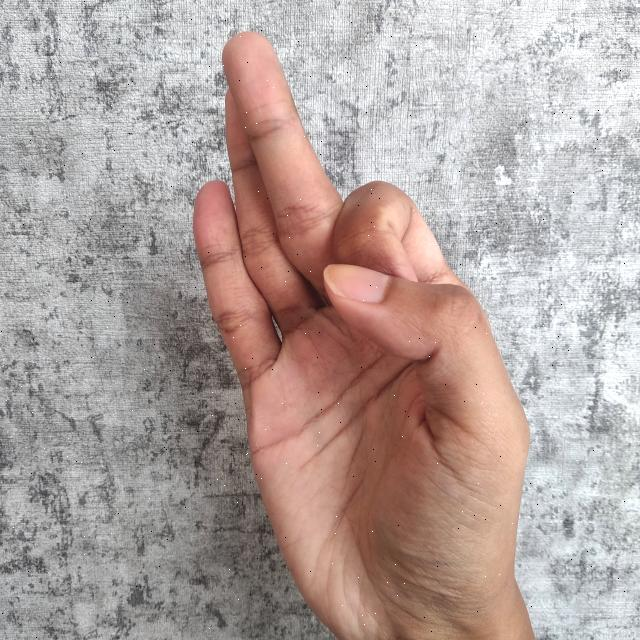F: (191, 25, 537, 640)
